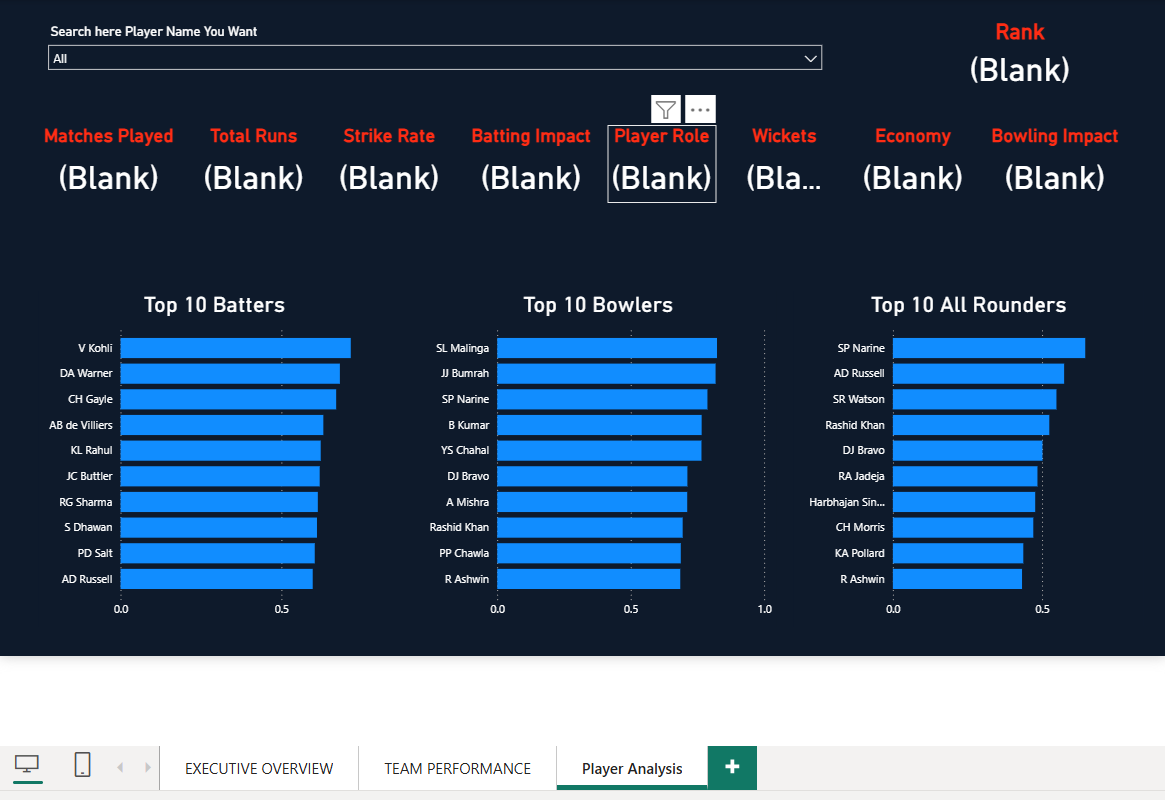

The page's visual inventory and layout, read from the dashboard file:
{"tool":"powerbi","page":{"name":"Player Analysis","canvas":[1280,720],"ordinal":2},"visuals":[{"type":"slicer","fields":{"Values":["dim_player.player_name"]},"box":[42.5,20.6,1203.4,78.2],"z":0},{"type":"card","title":"Total Runs","fields":{"Values":["Max(fact_player_batting.total_runs)"]},"box":[196.2,137.2,164.7,85.1],"z":1000},{"type":"card","title":"Strike Rate","fields":{"Values":["Avg(fact_player_batting.strike_rate)"]},"box":[360.9,137.2,133.1,85.1],"z":2000},{"type":"card","title":"Batting Impact","fields":{"Values":["Avg(fact_player_batting.batting_impact_index)"]},"box":[509.1,137.2,148.2,85.1],"z":3000},{"type":"card","title":"Player Role","fields":{"Values":["Min(dim_player.role)"]},"box":[666.9,137.2,119.4,85.1],"z":4000},{"type":"card","title":"Wickets ","fields":{"Values":["Max(fact_player_bowling.total_wickets)"]},"box":[809.6,137.2,94.7,85.1],"z":5000},{"type":"card","title":"Bowling Impact","fields":{"Values":["Avg(fact_player_bowling.bowling_impact_index)"]},"box":[1081.3,137.2,153.7,85.1],"z":6000},{"type":"card","title":"Economy","fields":{"Values":["Avg(fact_player_bowling.economy)"]},"box":[941.3,137.2,122.1,85.1],"z":7000},{"type":"card","title":"Matches Played","fields":{"Values":["Sum(dim_player.matches_played)"]},"box":[42.5,137.2,153.7,85.1],"z":8000}]}

Visuals, with their boxes on the page's 1280x720 design canvas (x1, y1, x2, y2). These are canvas units, not pixel positions in the 1165x800 screenshot, which may show the page scaled, cropped or inside an application window:
slicer - dim_player.player_name: <region>42, 21, 1246, 99</region>
"Total Runs" card: <region>196, 137, 361, 222</region>
"Strike Rate" card: <region>361, 137, 494, 222</region>
"Batting Impact" card: <region>509, 137, 657, 222</region>
"Player Role" card: <region>667, 137, 786, 222</region>
"Wickets " card: <region>810, 137, 904, 222</region>
"Bowling Impact" card: <region>1081, 137, 1235, 222</region>
"Economy" card: <region>941, 137, 1063, 222</region>
"Matches Played" card: <region>42, 137, 196, 222</region>
